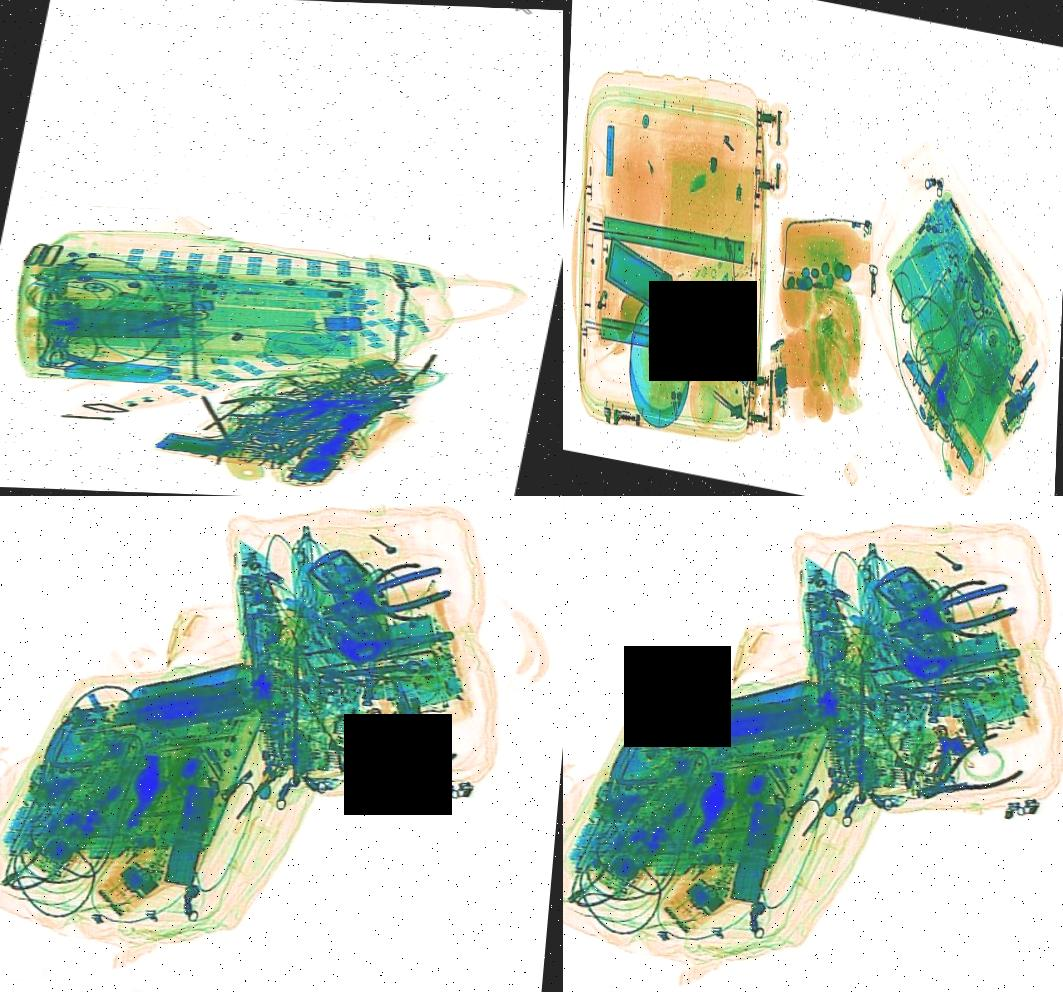Knife: (703, 381, 752, 425)
Pliers: (344, 695, 460, 814), (910, 712, 1026, 830), (315, 546, 455, 641), (881, 563, 1021, 658), (328, 546, 432, 648), (893, 564, 998, 664), (213, 387, 364, 422)
Wrench: (327, 646, 420, 688), (893, 664, 986, 706)
